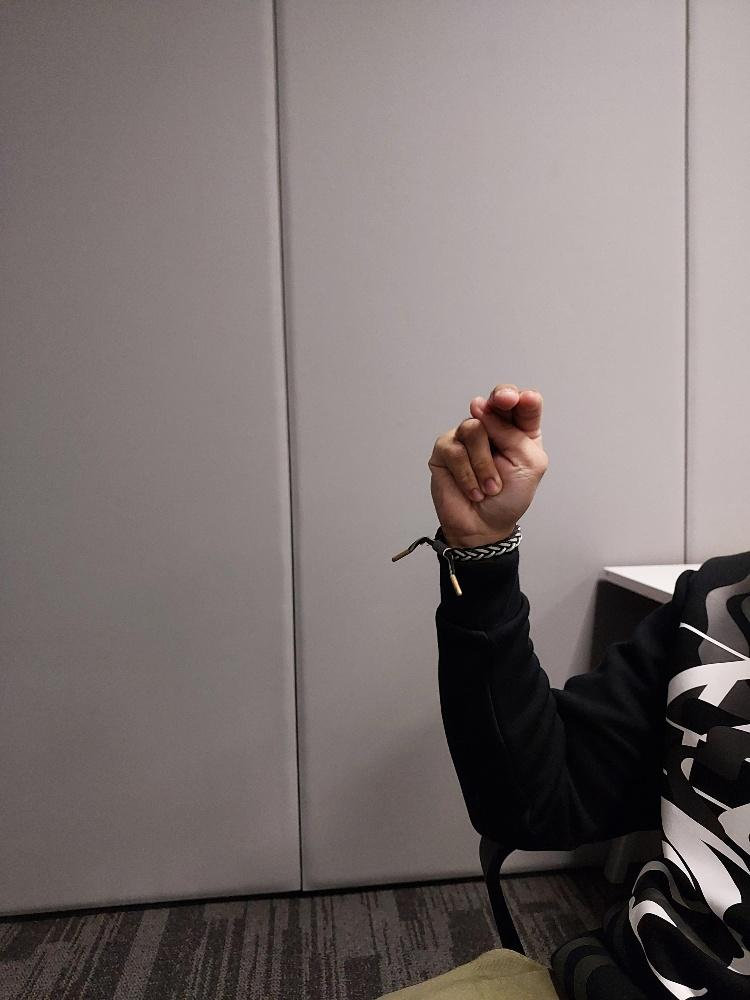n: (426, 380, 548, 548)
